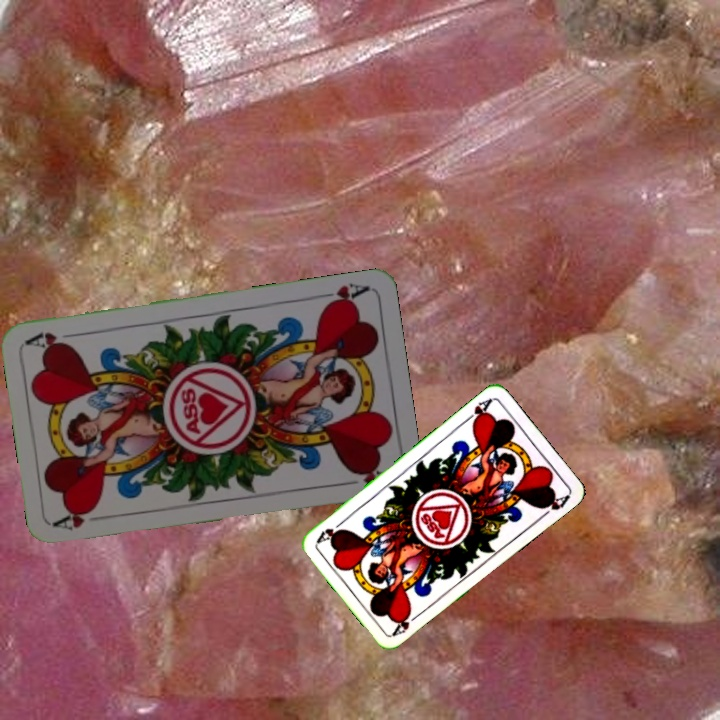HA: (311, 279, 370, 311), (51, 504, 110, 533), (460, 394, 495, 428), (388, 608, 424, 638)
